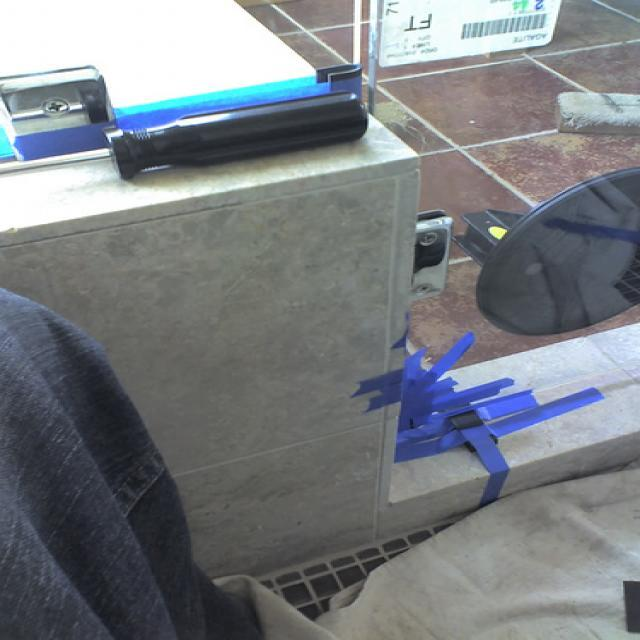screwdriver: (0, 83, 382, 215)
